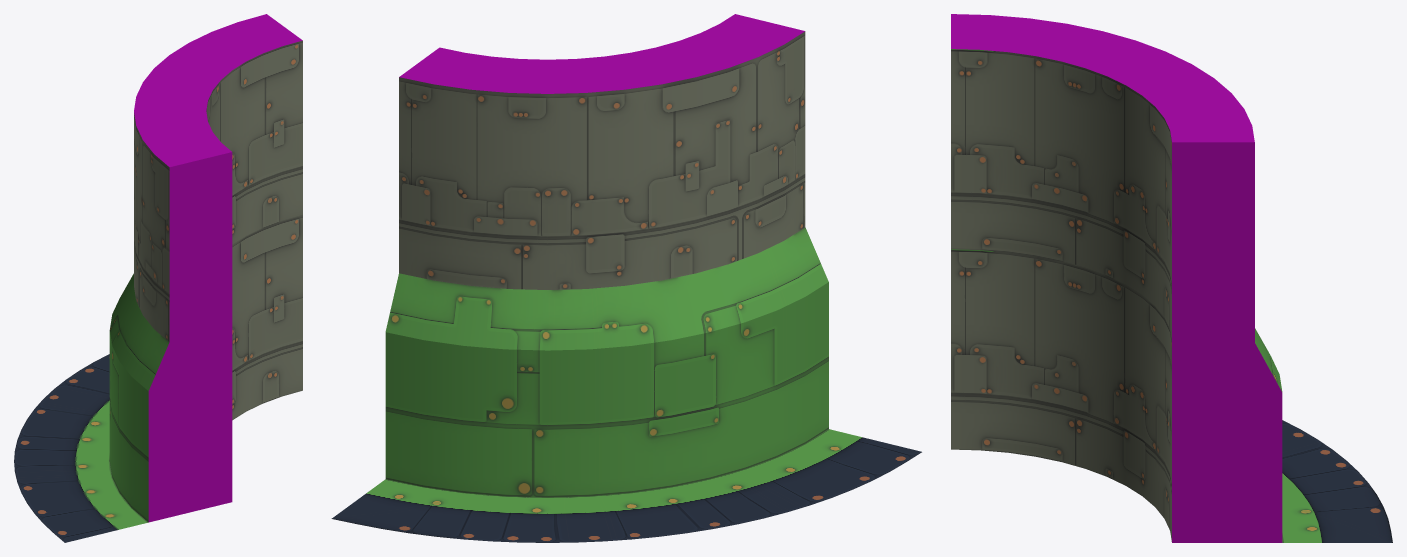
The model's file is Wall_Large_Corner_Inside_Top.fbx.
3 renders of one model, left to right at view 1: azimuth 30°, elevation 25°; view 2: azimuth 150°, elevation 25°; view 3: azimuth 270°, elevation 25°, orthographic. The views are drawn at different scales.
Parts seen in each view (by area): view 1: Wall_Large_Corner_Inside_Top, Wall_Large_Corner_Inside, Floor_Edge_Large_Corner_Inside; view 2: Wall_Large_Corner_Inside_Top, Wall_Large_Corner_Inside, Floor_Edge_Large_Corner_Inside; view 3: Wall_Large_Corner_Inside_Top, Wall_Large_Corner_Inside, Floor_Edge_Large_Corner_Inside.
Part boxes in pixels (bbox=[...]): Wall_Large_Corner_Inside_Top: bbox=[134, 14, 302, 342]; Wall_Large_Corner_Inside: bbox=[109, 215, 302, 522]; Floor_Edge_Large_Corner_Inside: bbox=[14, 354, 148, 542]; Wall_Large_Corner_Inside_Top: bbox=[399, 14, 805, 289]; Wall_Large_Corner_Inside: bbox=[385, 227, 828, 497]; Floor_Edge_Large_Corner_Inside: bbox=[331, 429, 921, 542]; Wall_Large_Corner_Inside_Top: bbox=[951, 14, 1254, 342]; Wall_Large_Corner_Inside: bbox=[951, 249, 1282, 542]; Floor_Edge_Large_Corner_Inside: bbox=[1282, 420, 1392, 542].
Bounding box in the file's own units: 200 × 200 × 200.
